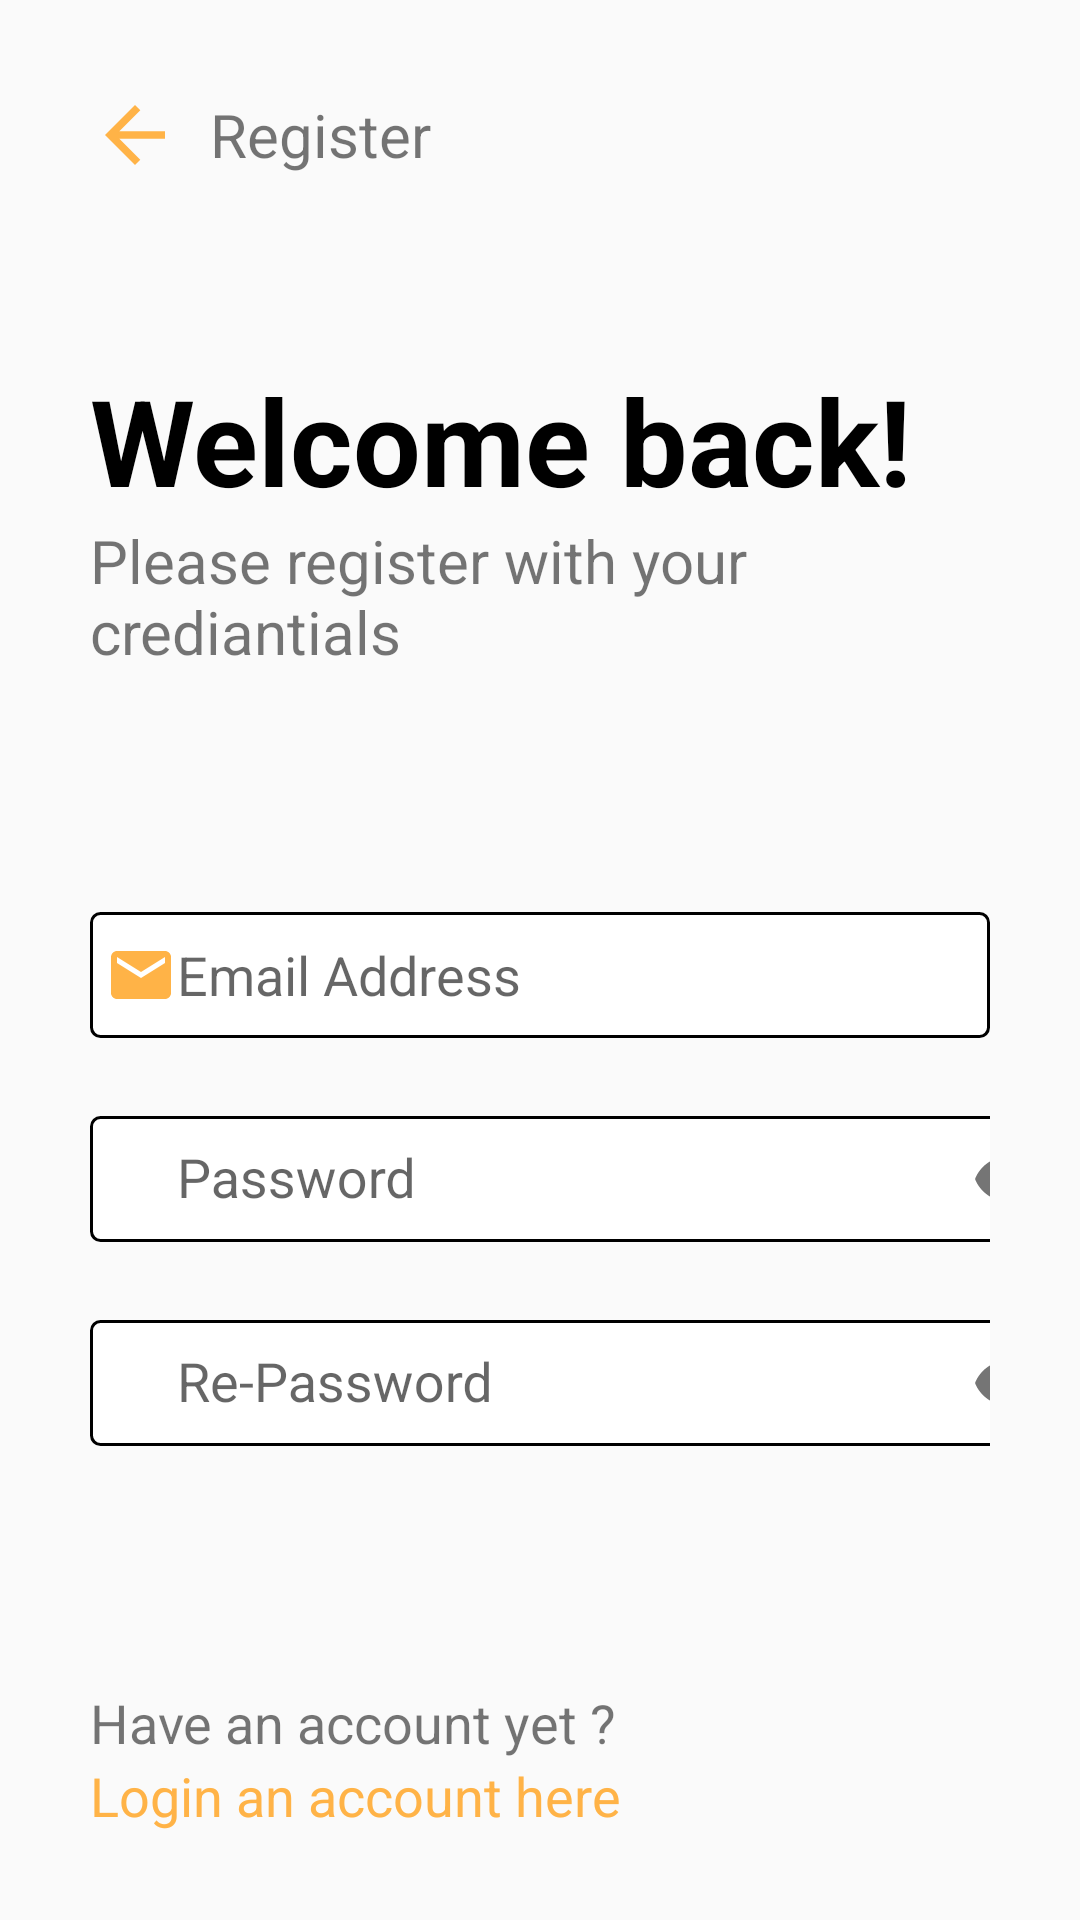

Point at icon controls on the screen. Image size 1080*1920, points as (x=x, y=y).
arrow back: (x=135, y=135)
